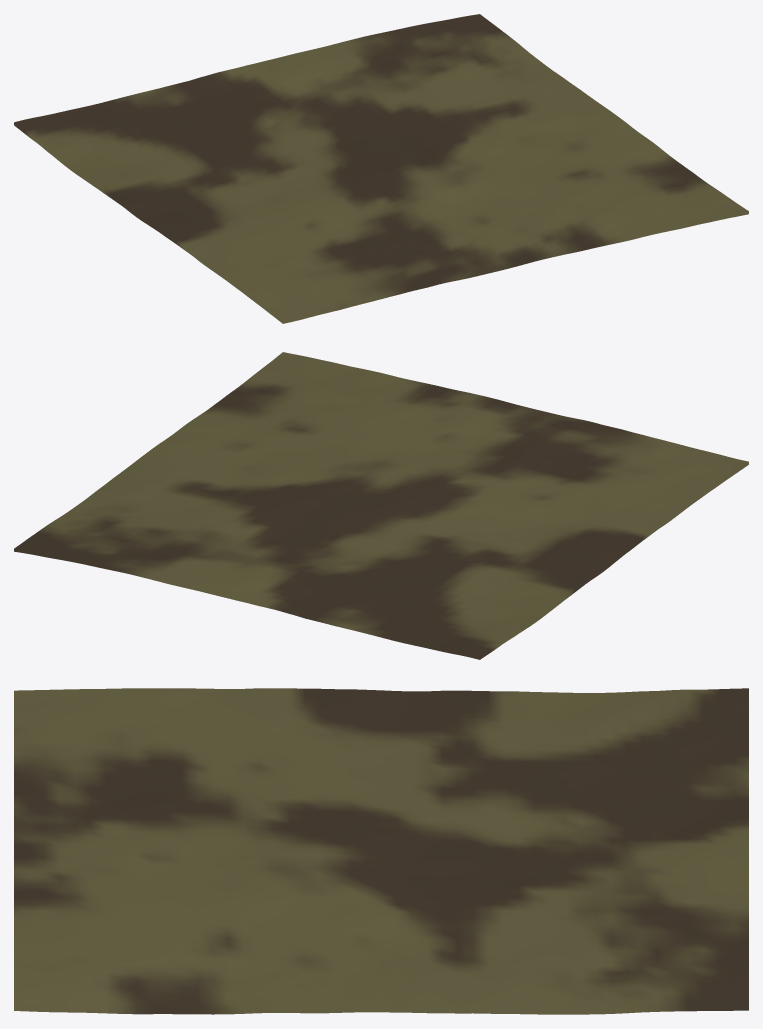
The model's file is land_m_05_00.glb.
The picture shows the model from 3 angles, top to bottom: view 1: azimuth 30°, elevation 25°; view 2: azimuth 150°, elevation 25°; view 3: azimuth 270°, elevation 25°; orthographic projection. The views are drawn at different scales.
Parts seen in each view (by area): view 1: land_m_05_00; view 2: land_m_05_00; view 3: land_m_05_00.
Boxes of the visible parts, <box> form: land_m_05_00: <box>14,14,748,323</box>; land_m_05_00: <box>14,352,748,659</box>; land_m_05_00: <box>14,688,748,1014</box>.
Size of the model in its own units: 960 by 25.39 by 960.
